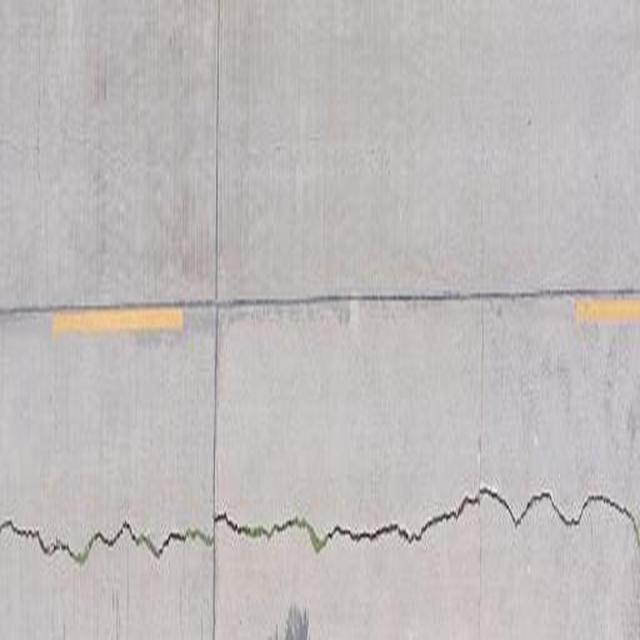Crack: (0, 471, 640, 574)
